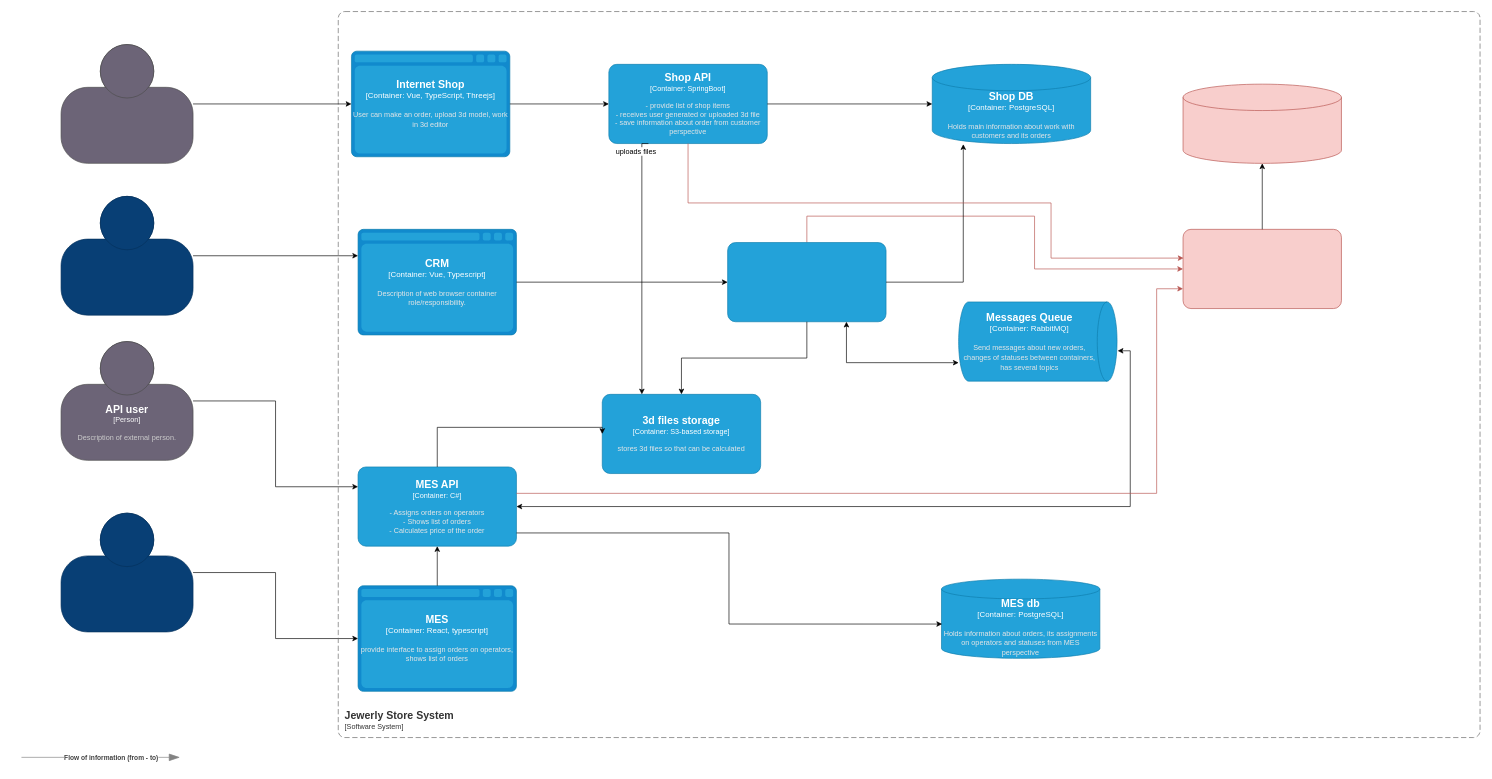
Image size: 1492x779. Some labels were removed from this diagram. Each missing label, with the centre of its shape:
CRM API [Container: SpringBoot] Description of container role/responsibility.: (x=806, y=282)
Customer [Person] Description of external person.: (x=126, y=103)
Jaeger [Container: Jaeger] Get tracing information: (x=1261, y=269)
Jaeger DB [Container: Elasticsearch] Store trasing information: (x=1261, y=123)
Operator [Person] Takes order in work, manufactures jewerly: (x=126, y=572)
Seller [Person] Operates with order, confirms manufacturing for the user: (x=126, y=255)
